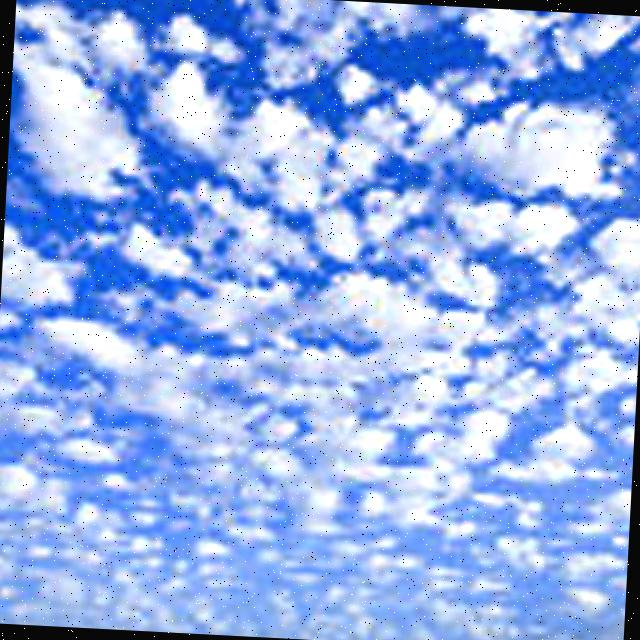Ac: (1, 20, 639, 640)
